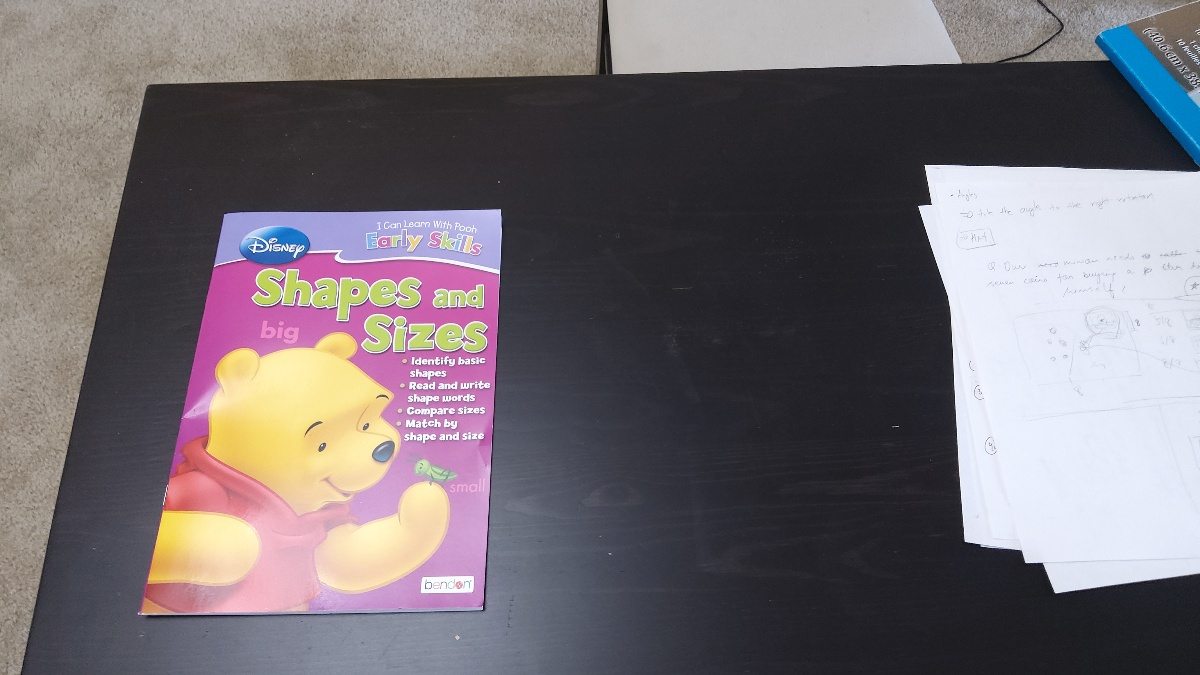book: (136, 203, 507, 623)
